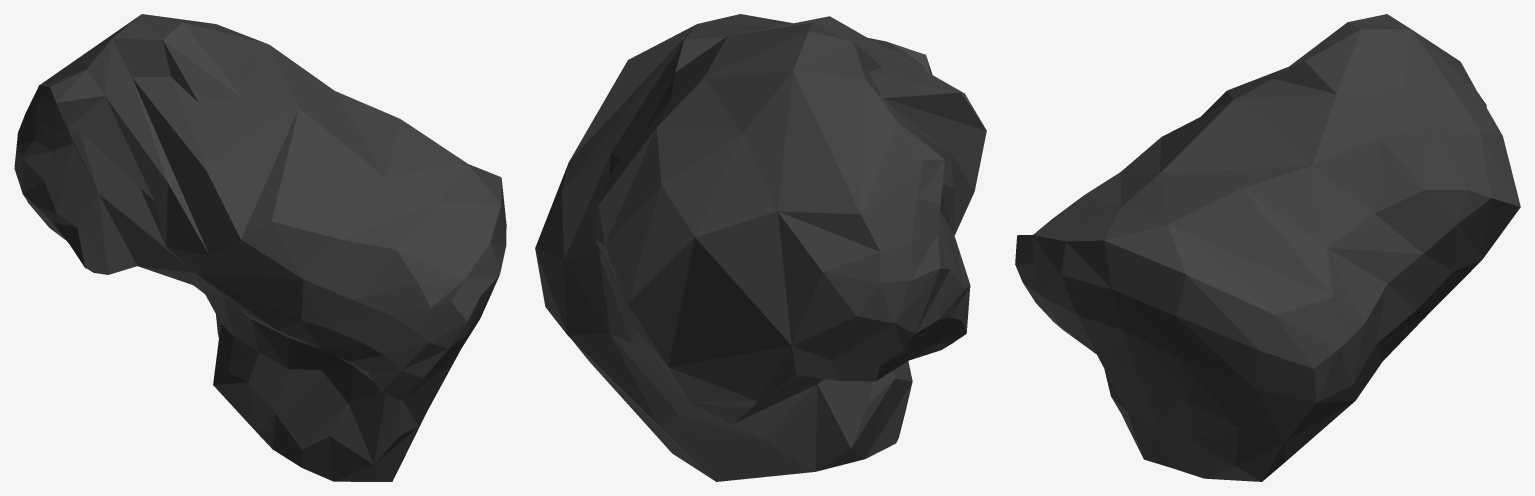
File: Fourth_tarsal_L.glb
The picture shows the model from 3 angles, left to right: view 1: azimuth 30°, elevation 25°; view 2: azimuth 150°, elevation 25°; view 3: azimuth 270°, elevation 25°; orthographic projection. The views are drawn at different scales.
Visible parts, largest first — view 1: Fourth_tarsal_L; view 2: Fourth_tarsal_L; view 3: Fourth_tarsal_L.
Part boxes in pixels (x1=…): Fourth_tarsal_L: x1=14, y1=14, x2=506, y2=481; Fourth_tarsal_L: x1=535, y1=14, x2=986, y2=481; Fourth_tarsal_L: x1=1015, y1=14, x2=1520, y2=481.
Size of the model in its own units: 0.0484 by 0.0511 by 0.0604.
Materials: 1 (1 with a texture image).
